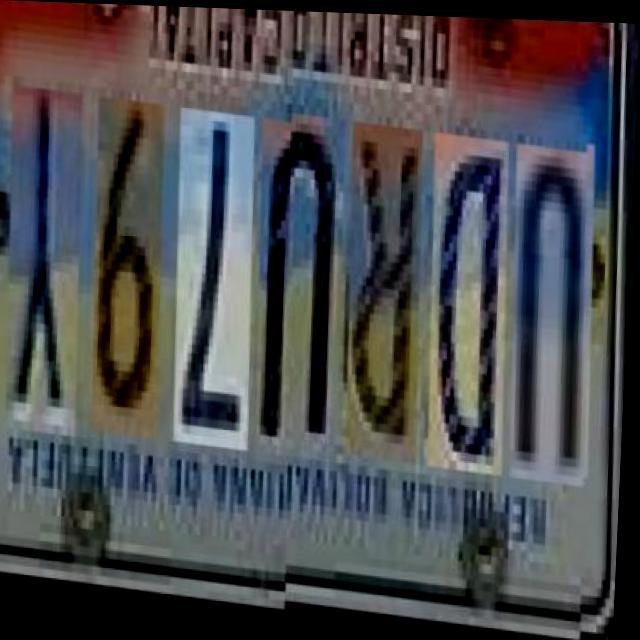7: (172, 115, 264, 456)
9: (90, 107, 173, 448)
d: (426, 142, 518, 483)
r: (344, 133, 431, 474)
u: (254, 124, 354, 466), (509, 150, 605, 492)
y: (4, 98, 92, 448)
